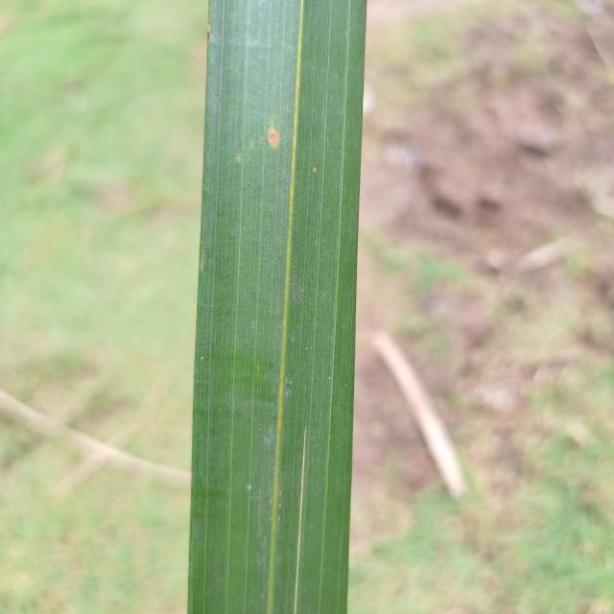Kalium: (184, 0, 366, 614)
